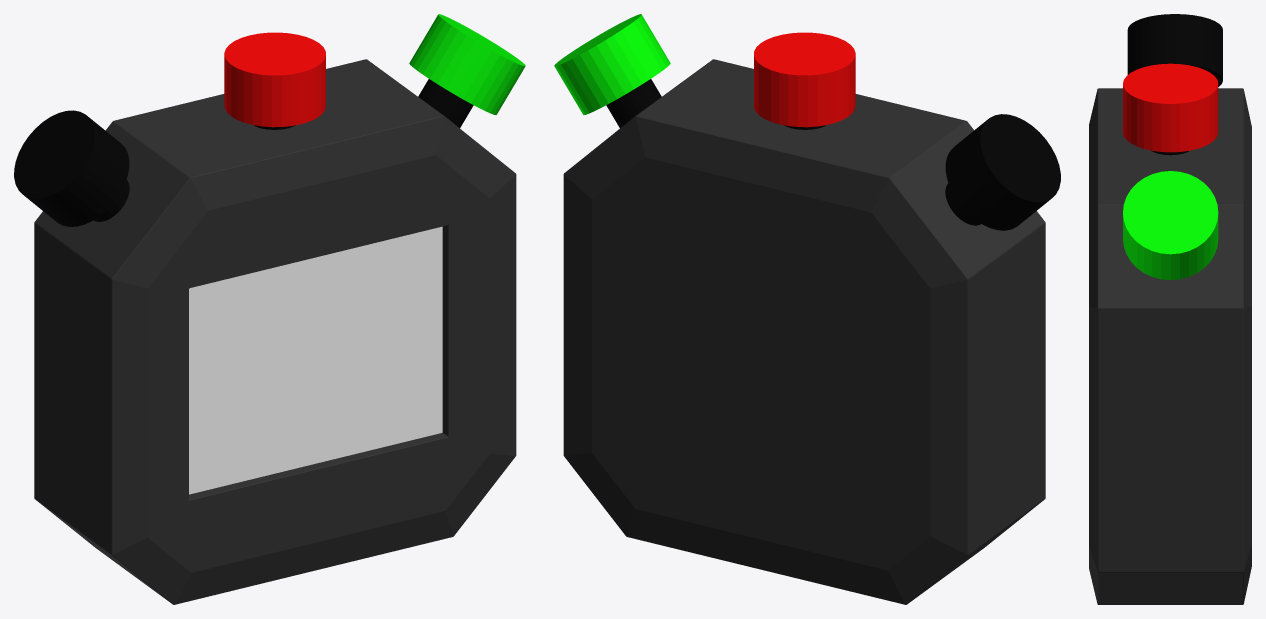
File: stopwatch.fbx
The picture shows the model from 3 angles, left to right: view 1: azimuth 30°, elevation 25°; view 2: azimuth 150°, elevation 25°; view 3: azimuth 270°, elevation 25°; orthographic projection. The views are drawn at different scales.
Visible parts, largest first — view 1: Body, Screen, Button.001, Button.002, Button.003, ButtonBase.003; view 2: Body, Button.001, Button.002, Button.003, ButtonBase.003; view 3: Body, Button.003, Button.002, Button.001.
Part boxes in pixels (x1=…): Body: x1=34, y1=59, x2=516, y2=604; Screen: x1=189, y1=226, x2=442, y2=494; Button.001: x1=14, y1=110, x2=129, y2=226; Button.002: x1=224, y1=32, x2=325, y2=127; Button.003: x1=409, y1=14, x2=525, y2=114; ButtonBase.003: x1=418, y1=79, x2=473, y2=127; Body: x1=563, y1=59, x2=1045, y2=604; Button.001: x1=945, y1=114, x2=1060, y2=230; Button.002: x1=754, y1=32, x2=855, y2=127; Button.003: x1=554, y1=14, x2=670, y2=114; ButtonBase.003: x1=606, y1=79, x2=661, y2=127; Body: x1=1089, y1=88, x2=1251, y2=604; Button.003: x1=1123, y1=171, x2=1218, y2=280; Button.002: x1=1123, y1=63, x2=1218, y2=152; Button.001: x1=1127, y1=14, x2=1222, y2=86.
Bounding box in the file's own units: 14.59 × 13.84 × 4.47.
